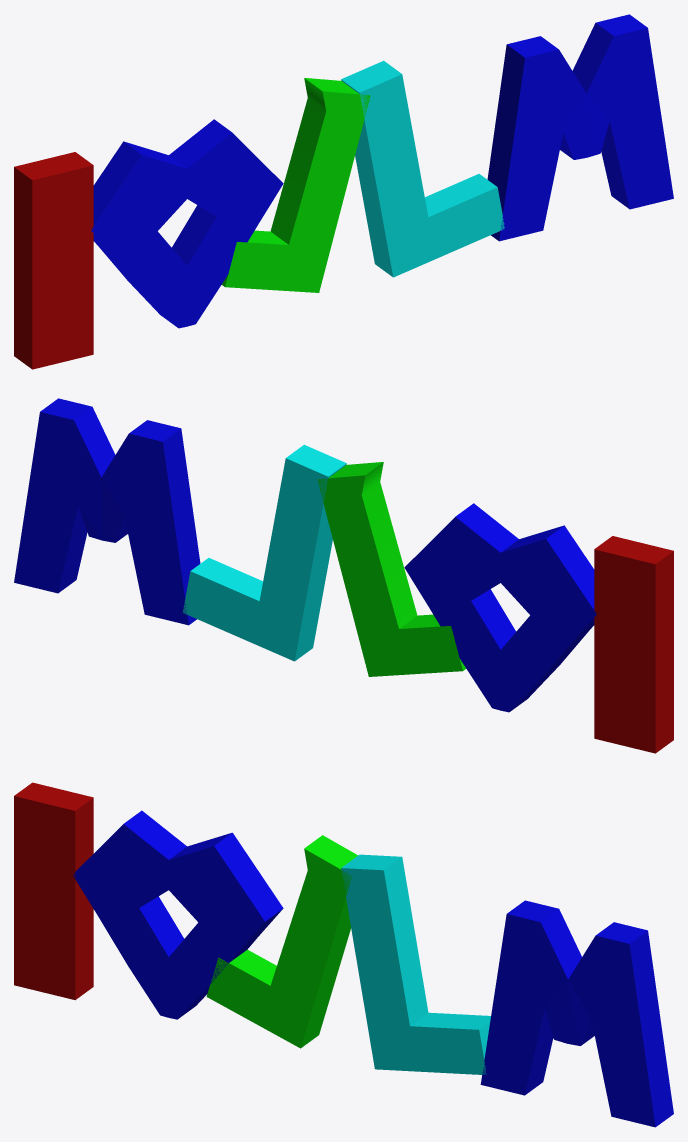
The model's file is heartcolor.fbx.
3 views of the same model, one above another, from view 1: azimuth 30°, elevation 25°; view 2: azimuth 150°, elevation 25°; view 3: azimuth 330°, elevation 25° (orthographic).
Visible parts, largest first — view 1: pCube13, pCube7, pCube8, pCube10, pCube9; view 2: pCube13, pCube7, pCube8, pCube10, pCube9; view 3: pCube13, pCube7, pCube10, pCube8, pCube9.
Boxes of the visible parts, x1,y1,x2,y2 form: pCube13: [487, 14, 673, 241]; pCube7: [91, 119, 283, 328]; pCube8: [14, 152, 93, 369]; pCube10: [341, 60, 504, 277]; pCube9: [221, 78, 370, 292]; pCube13: [14, 398, 200, 625]; pCube7: [404, 503, 596, 712]; pCube8: [594, 536, 673, 753]; pCube10: [182, 444, 346, 661]; pCube9: [317, 462, 466, 676]; pCube13: [480, 900, 673, 1127]; pCube7: [73, 810, 283, 1019]; pCube10: [341, 854, 490, 1074]; pCube8: [14, 782, 93, 1000]; pCube9: [206, 835, 357, 1048].
Bounding box in the file's own units: 20.07 × 6.2 × 1.04.
